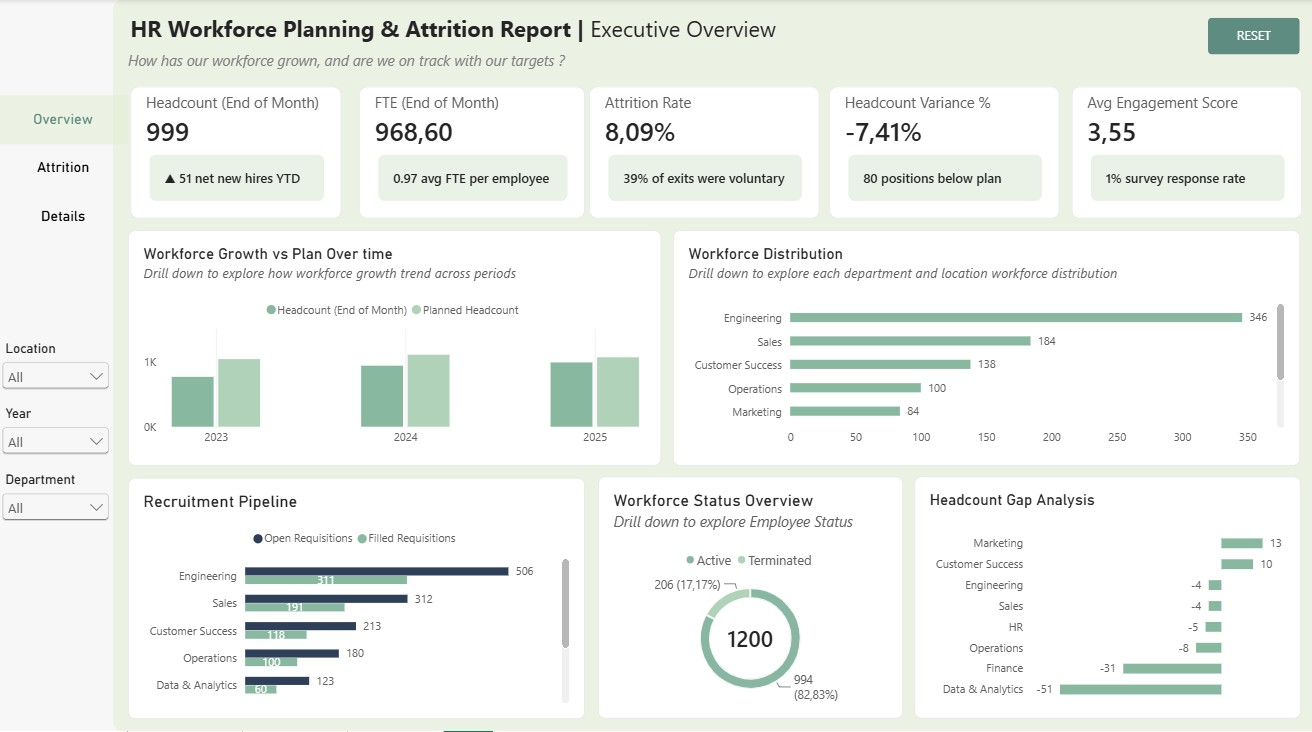

The page's visual inventory and layout, read from the dashboard file:
{"tool":"powerbi","page":{"name":"Overview","canvas":[1435,800],"ordinal":0},"visuals":[{"type":"actionButton","title":"aa","box":[0,210,142,54],"z":0},{"type":"actionButton","title":"aa","box":[0,158,142,52],"z":1000},{"type":"actionButton","title":"aa","box":[0,104.5,141.8,53.6],"z":2000},{"type":"shape","box":[126,0,1324,800],"z":3000},{"type":"cardVisual","fields":{"Data":["All Measure.Headcount (End of Month)"]},"box":[143.9,95.1,230.1,144.7],"z":4000},{"type":"cardVisual","fields":{"Data":["All Measure.FTE (End of Month)"]},"box":[394.2,95.1,246.6,144.8],"z":5000},{"type":"cardVisual","fields":{"Data":["All Measure.Attrition Rate"]},"box":[644.5,95.1,251.5,144.8],"z":6000},{"type":"cardVisual","fields":{"Data":["All Measure.Headcount Variance %"]},"box":[907.2,95.1,251.5,144.8],"z":7000},{"type":"cardVisual","fields":{"Data":["All Measure.Avg Engagement Score"]},"box":[1171.4,95.1,251.5,144.8],"z":8000},{"type":"clusteredColumnChart","title":"Workforce Growth vs Plan Over time","fields":{"Category":["DimDate.Year","DimDate.Quarter","DimDate.MonthName"],"Y":["All Measure.Headcount (End of Month)","All Measure.Planned Headcount (End of Month)"]},"box":[141.5,251.8,581.4,256.5],"z":9000},{"type":"clusteredBarChart","title":"Workforce Distribution","fields":{"Category":["DimDepartment.Department","DimLocation.Location","FactMonthlySnapshot.Level"],"Y":["All Measure.Headcount (End of Month)"]},"box":[736.8,251.8,684,256.5],"z":10000},{"type":"clusteredBarChart","title":"Recruitment Pipeline","fields":{"Category":["DimDepartment.Department"],"Y":["All Measure.Open Requisitions","All Measure.Filled Requisitions"]},"box":[141.5,521.5,498.4,263.1],"z":11000},{"type":"donutChart","title":"Workforce Status Overview","fields":{"Category":["DimEmployee.Gender","DimEmployee.EmploymentStatus"],"Y":["All Measure.Employee Count"]},"box":[654.4,520.7,332.7,264.3],"z":12000},{"type":"clusteredBarChart","title":"Headcount Gap Analysis","fields":{"Category":["DimDepartment.Department"],"Y":["All Measure.Headcount Variance"]},"box":[999.5,520.7,421.3,264.3],"z":13000},{"type":"slicer","fields":{"Values":["DimLocation.Location"]},"box":[0,371.8,125.9,71.5],"z":14000},{"type":"slicer","fields":{"Values":["DimDate.Year"]},"box":[0,443.3,125.9,71.5],"z":15000},{"type":"slicer","fields":{"Values":["DimDepartment.Department"]},"box":[0,514.8,125.9,71.5],"z":16000},{"type":"textbox","box":[144,16,1110,48],"z":17000},{"type":"textbox","box":[142,56,1110,48],"z":18000},{"type":"actionButton","box":[1320,20,100,40],"z":19000}]}

Visuals, with their boxes in screenshot pixels (x1, y1, x2, y2), scaled from the page's 1435x800 canvas onto the 1312x732 screenshot:
"aa" actionButton: crop(0, 192, 130, 242)
"aa" actionButton: crop(0, 145, 130, 192)
"aa" actionButton: crop(0, 96, 130, 145)
shape: crop(115, 0, 1311, 731)
cardVisual - All Measure.Headcount (End of Month): crop(132, 87, 342, 219)
cardVisual - All Measure.FTE (End of Month): crop(360, 87, 586, 220)
cardVisual - All Measure.Attrition Rate: crop(589, 87, 819, 220)
cardVisual - All Measure.Headcount Variance %: crop(829, 87, 1059, 220)
cardVisual - All Measure.Avg Engagement Score: crop(1071, 87, 1301, 220)
"Workforce Growth vs Plan Over time" clusteredColumnChart: crop(129, 230, 661, 465)
"Workforce Distribution" clusteredBarChart: crop(674, 230, 1299, 465)
"Recruitment Pipeline" clusteredBarChart: crop(129, 477, 585, 718)
"Workforce Status Overview" donutChart: crop(598, 476, 902, 718)
"Headcount Gap Analysis" clusteredBarChart: crop(914, 476, 1299, 718)
slicer - DimLocation.Location: crop(0, 340, 115, 406)
slicer - DimDate.Year: crop(0, 406, 115, 471)
slicer - DimDepartment.Department: crop(0, 471, 115, 536)
textbox: crop(132, 15, 1147, 59)
textbox: crop(130, 51, 1145, 95)
actionButton: crop(1207, 18, 1298, 55)
